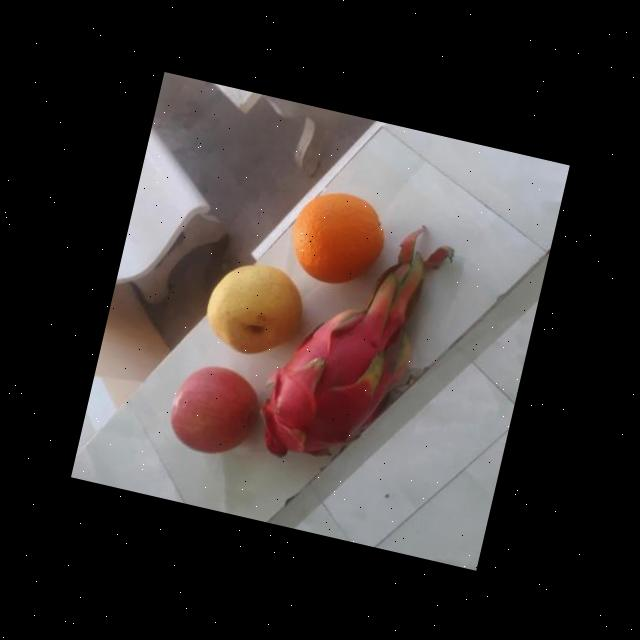apple: (162, 356, 265, 466)
orange: (278, 178, 390, 294)
pear: (195, 248, 312, 367)
pitaya: (252, 299, 400, 476)
